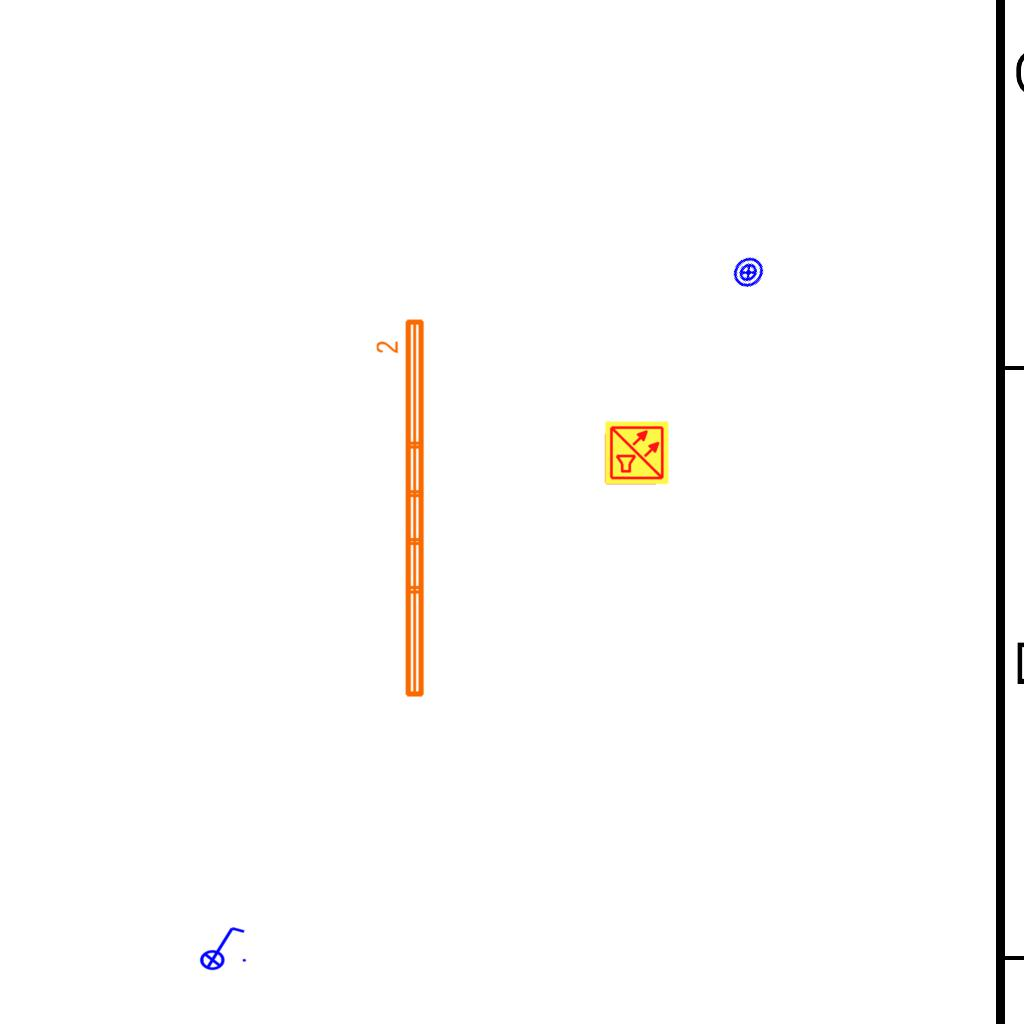Ambulanz_Pendelleuchte_LED: (374, 315, 430, 702)
Ausschalter_beleuchtet: (193, 923, 249, 971)
OKW_Multisensormelder_(Kombination_optischer_Rauch-Kahlenmonoxid_Waerme-Melder): (604, 420, 670, 486)
Taster_beleuchtet: (725, 249, 772, 296)
